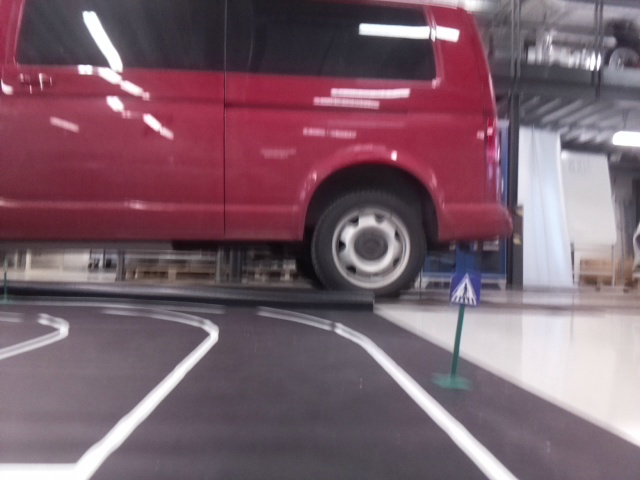Crosswalk: (452, 274, 478, 305)
